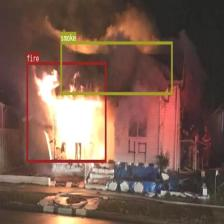fire: (26, 62, 106, 162)
smoke: (60, 41, 172, 94)
